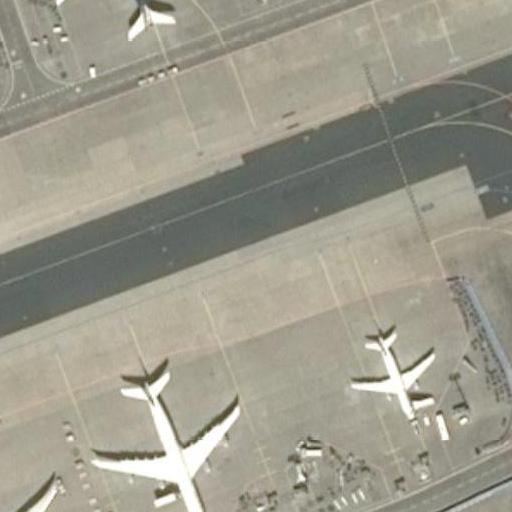Aircraft: (82, 369, 242, 512), (346, 324, 436, 421), (45, 0, 211, 40), (0, 451, 56, 512)
